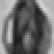correct: (2, 0, 52, 51)
